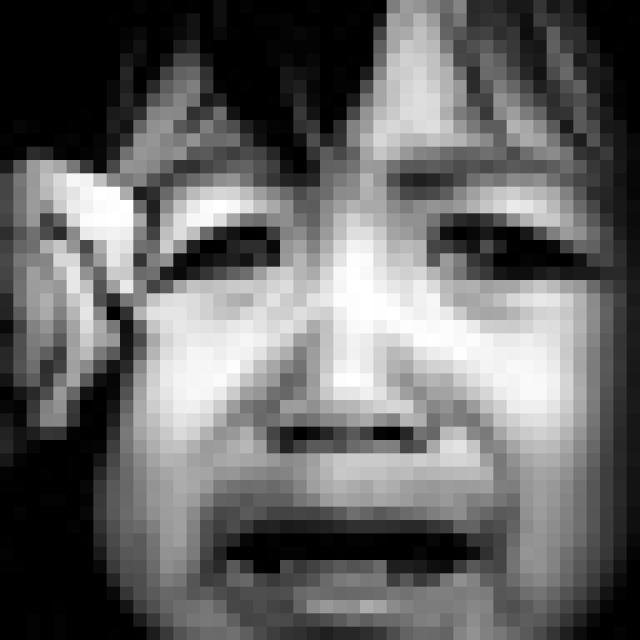sad: (134, 142, 622, 640)
